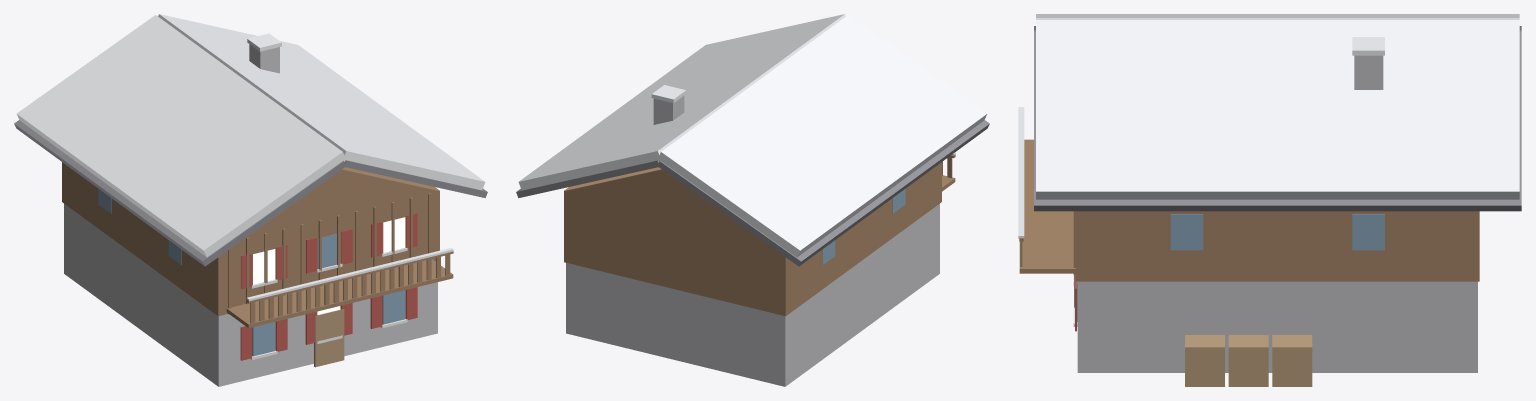
Rendered from chalet.glb.
3 views of the same model, side by side, from view 1: azimuth 30°, elevation 25°; view 2: azimuth 150°, elevation 25°; view 3: azimuth 270°, elevation 25° (orthographic). The views are drawn at different scales.
Visible parts, largest first — view 1: chalet; view 2: chalet; view 3: chalet.
Boxes of the visible parts, x1=… form: chalet: x1=14, y1=14, x2=487, y2=386; chalet: x1=516, y1=14, x2=989, y2=386; chalet: x1=1018, y1=14, x2=1521, y2=386.
Bounding box in the file's own units: 11.7 × 8.92 × 13.83.
